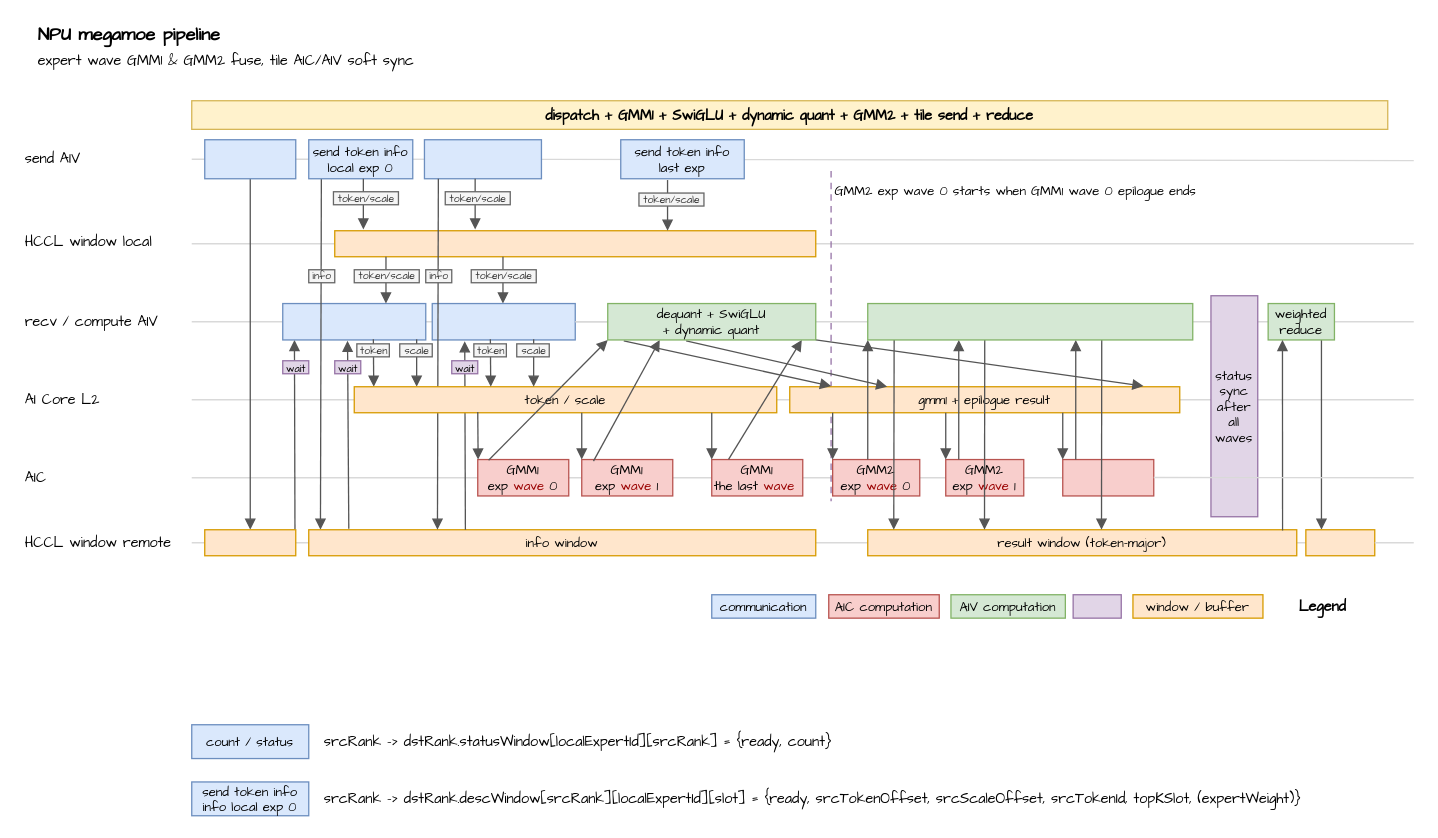
Some shapes in this 1438 by 838 pixel diagram are drawn without their labels. The box of each missing label's shape, as (x1, y1, x2, y2) in pixels:
count/status: (203, 138, 296, 179)
deq + send tile to srcRank: (866, 302, 1193, 340)
export window: (333, 229, 816, 257)
GMM2 the last wave: (1061, 458, 1154, 496)
output: (1305, 528, 1375, 556)
pull token/scale local exp 0: (281, 302, 426, 340)
pull token/scale local exp 1: (431, 302, 575, 340)
send token info local exp 1: (423, 138, 541, 179)
status window: (203, 528, 296, 556)
sync: (1072, 593, 1121, 618)
